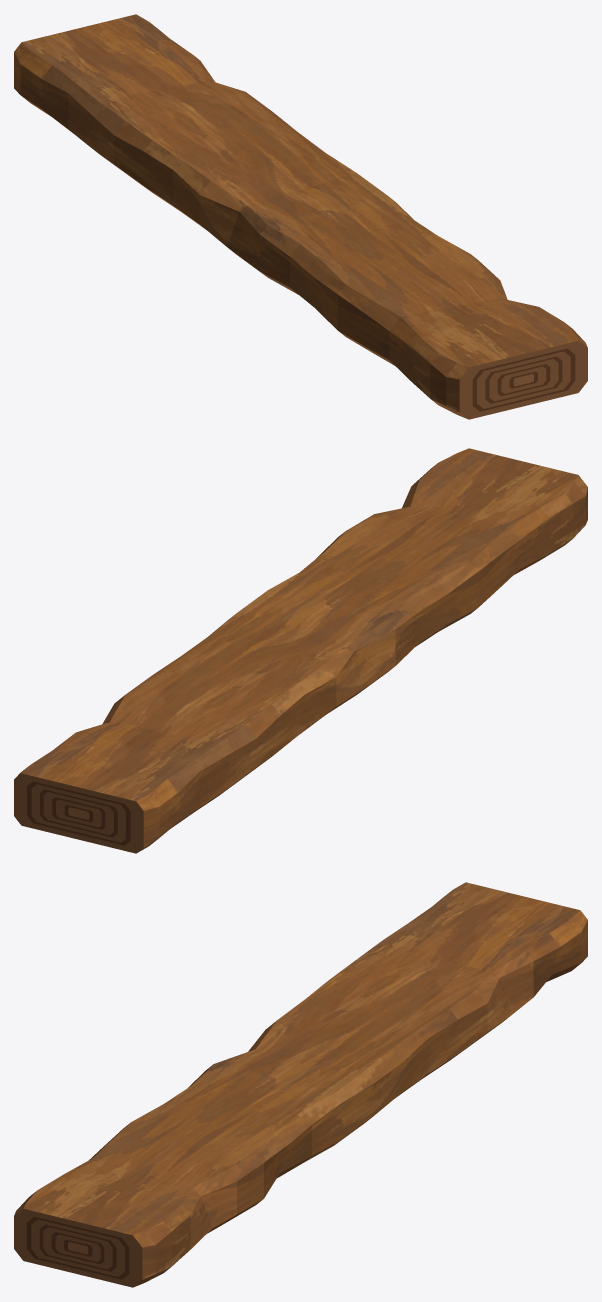
Rendered from wood_board.glb.
3 views of the same model, one above another, from view 1: azimuth 30°, elevation 25°; view 2: azimuth 150°, elevation 25°; view 3: azimuth 330°, elevation 25° (orthographic).
Visible parts, largest first — view 1: wood_board; view 2: wood_board; view 3: wood_board.
Part boxes in pixels (x1,y1,x2,y2): wood_board: (14, 14, 587, 419); wood_board: (14, 448, 587, 853); wood_board: (14, 882, 587, 1287).
Size of the model in its own units: 0.305 by 0.107 by 1.65.
Materials: 4 (1 with a texture image).
